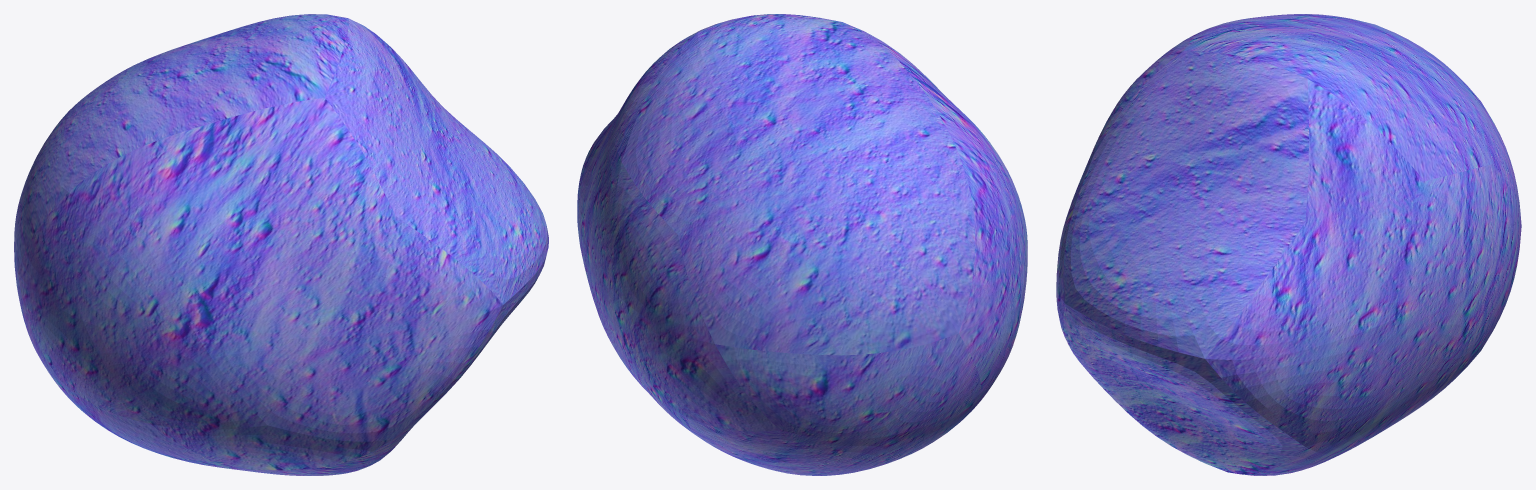
The model's file is bigasteroid15_LOD1.fbx.
3 views of the same model, side by side, from view 1: azimuth 30°, elevation 25°; view 2: azimuth 150°, elevation 25°; view 3: azimuth 270°, elevation 25° (orthographic).
Visible parts, largest first — view 1: Icosphere; view 2: Icosphere; view 3: Icosphere.
Boxes of the visible parts, x1=… form: Icosphere: x1=14, y1=14, x2=548, y2=475; Icosphere: x1=577, y1=14, x2=1027, y2=475; Icosphere: x1=1056, y1=14, x2=1521, y2=475.
Size of the model in its own units: 230 by 205 by 204.
